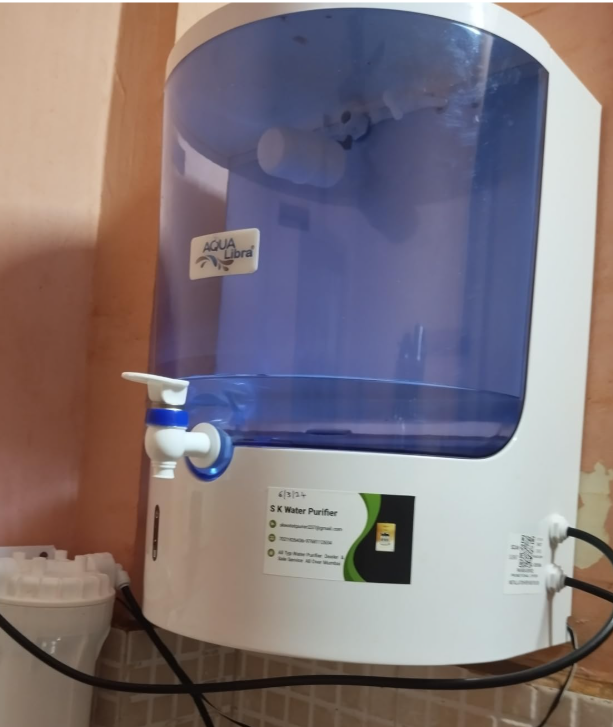water purifier: (118, 0, 595, 674)
